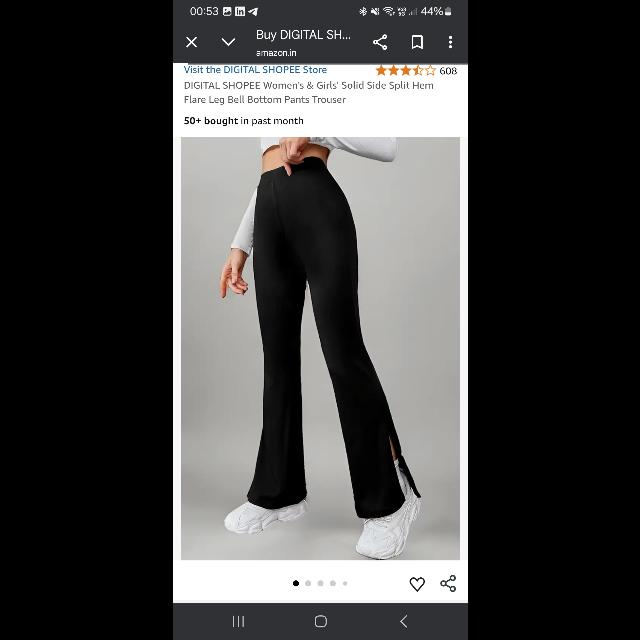bottom: (254, 165, 408, 511)
shoes: (346, 496, 432, 560), (220, 498, 310, 536)
